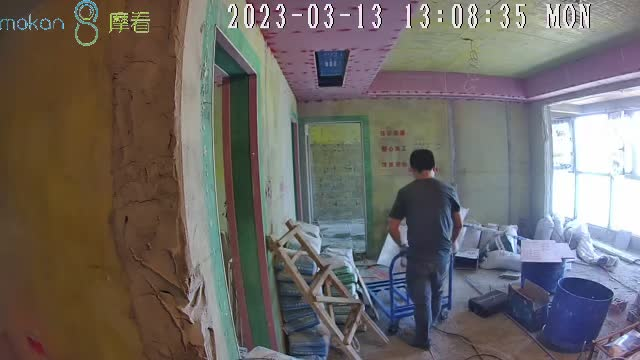people: (388, 150, 463, 349)
window: (552, 112, 640, 237)
